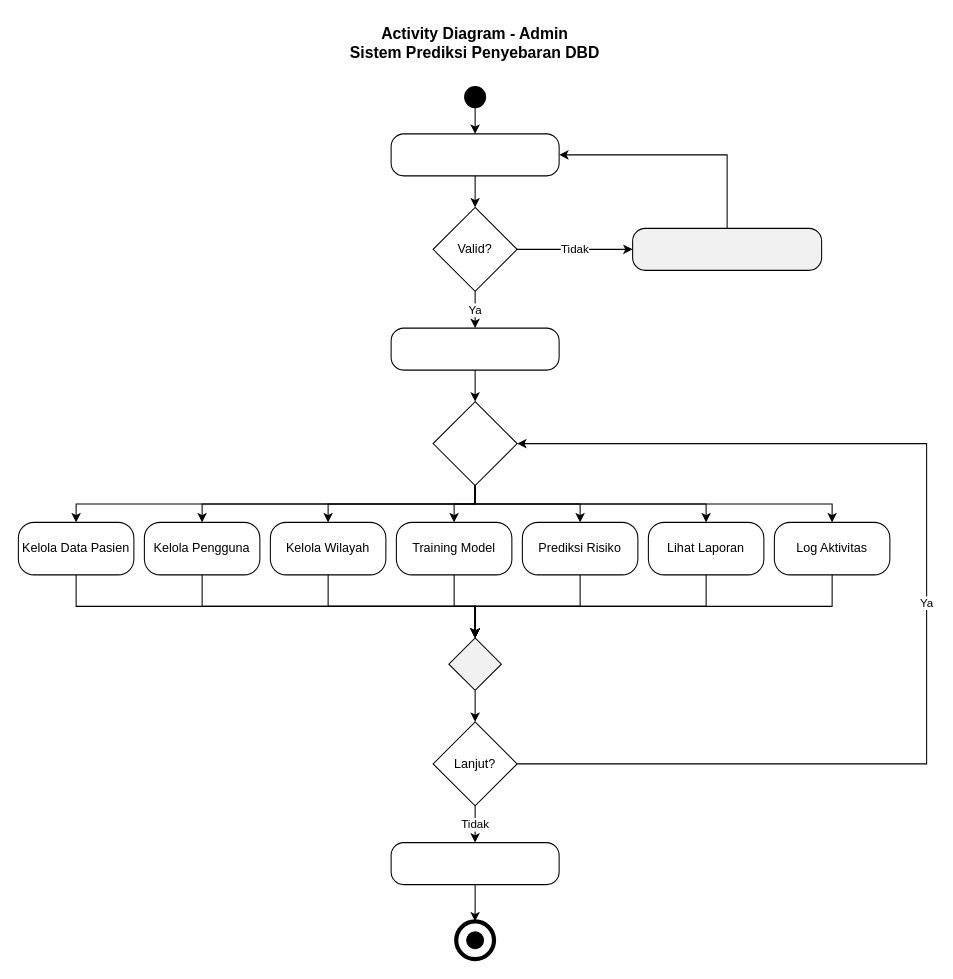
Image size: 953x979. Some labels were removed from this diagram. Here are the shapes that lost their labels. From the top down, the box of each, then its label:
(390, 133, 559, 176): Login ke Sistem
(632, 227, 822, 270): Tampilkan Pesan Error
(390, 327, 559, 370): Tampilkan Dashboard
(432, 401, 517, 486): Pilih Menu
(390, 842, 559, 885): Logout
